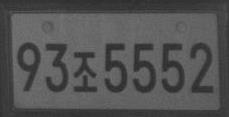2: (189, 41, 214, 94)
3: (44, 42, 68, 92)
5: (132, 43, 157, 93), (104, 42, 128, 93), (161, 42, 185, 92)
9: (16, 41, 42, 91)
조: (72, 51, 97, 92)
